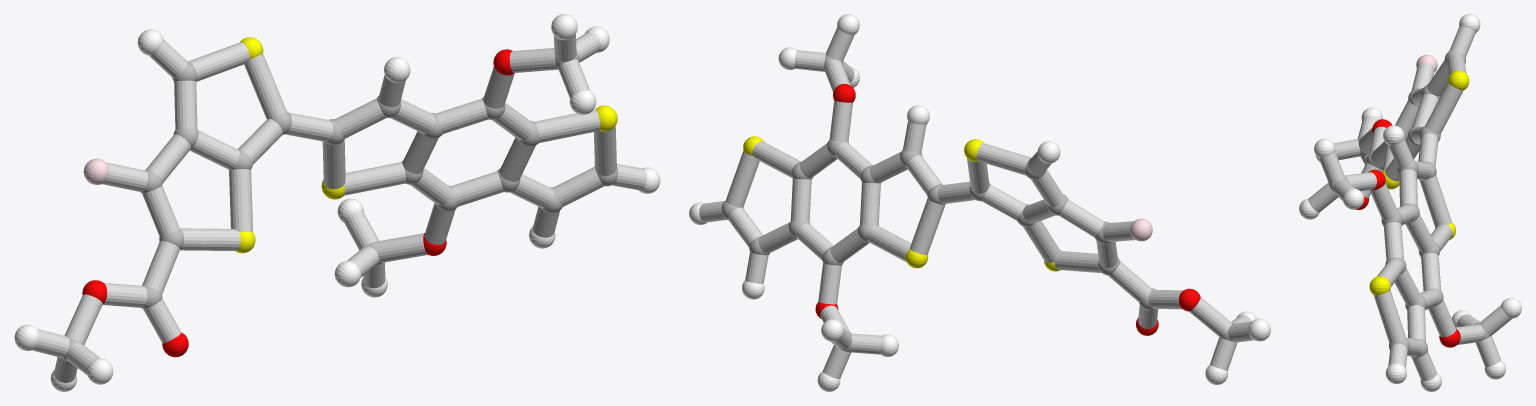
The model's file is Dimethoxy_Benzodithiophene_Phi_5_Theta_50_Methylcarbonyl_3_Fluoro_Thienothiophene.glb.
The picture shows the model from 3 angles, left to right: view 1: azimuth 30°, elevation 25°; view 2: azimuth 150°, elevation 25°; view 3: azimuth 270°, elevation 25°; orthographic projection. The views are drawn at different scales.
Parts seen in each view (by area): view 1: grp15205, grp8689, grp1, grp13395, grp7241; view 2: grp15205, grp8689, grp1, grp13395, grp7241; view 3: grp15205, grp8689, grp1, grp7241, grp13395, grp14843.
Part boxes in pixels (<box>): grp15205: <box>32,32,646,382</box>; grp8689: <box>14,14,660,391</box>; grp1: <box>61,51,617,361</box>; grp13395: <box>82,49,514,357</box>; grp7241: <box>235,37,617,253</box>; grp15205: <box>699,27,1253,378</box>; grp8689: <box>689,14,1270,391</box>; grp1: <box>721,55,1234,352</box>; grp13395: <box>815,84,1200,335</box>; grp7241: <box>743,136,1061,271</box>; grp15205: <box>1308,26,1511,381</box>; grp8689: <box>1299,14,1521,391</box>; grp1: <box>1328,50,1490,358</box>; grp7241: <box>1369,70,1469,295</box>; grp13395: <box>1355,119,1460,347</box>; grp14843: <box>1416,54,1437,72</box>.
Bounding box in the file's own units: 17.13 × 8.43 × 6.26.
